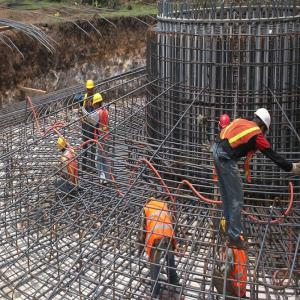red: (220, 115, 231, 132)
white: (254, 108, 272, 137)
yellow: (58, 135, 68, 153), (94, 93, 104, 109), (86, 80, 96, 95)
